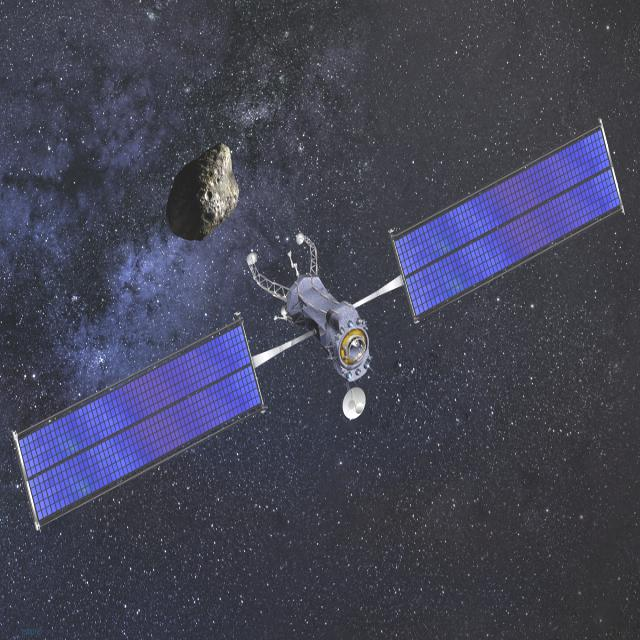large_debris: (158, 129, 239, 244)
medium_debris: (10, 113, 628, 543)
